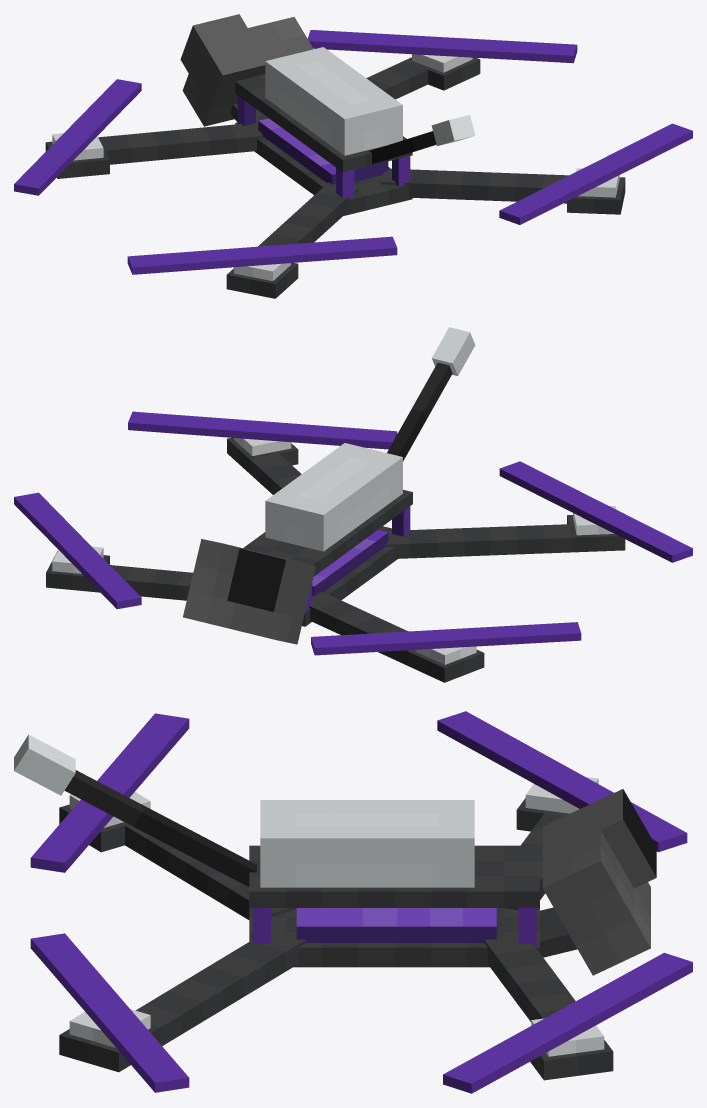
Rendered from voyager.gltf.
The picture shows the model from 3 angles, top to bottom: view 1: azimuth 30°, elevation 25°; view 2: azimuth 150°, elevation 25°; view 3: azimuth 270°, elevation 25°; orthographic projection. The views are drawn at different scales.
Parts seen in each view (by area): view 1: Battery, Body (×5), Camera (×2), front_left (×2), back_left_prop, back_right (×2), front_right_prop, back_right_prop, front_left_prop, back_left (×2), front_right (×2), Motors (×4) (+1 smaller); view 2: Camera (×2), Battery, back_left (×2), Body (×3), front_left_prop, back_right_prop, back_left_prop, front_right_prop, front_left (×2), Antenna (×2), front_right (×2), back_right (×2) (+1 smaller); view 3: Body (×6), Battery, Camera (×2), back_right (×2), front_right_prop, Antenna (×2), back_right_prop, front_left_prop, back_left_prop, front_right (×2), back_left (×2), Motors (×3) (+1 smaller).
Part boxes in pixels (x1,y1,x2,y2): Battery: (265,47,402,155); Body (×5): (235,74,412,215); Camera (×2): (180,14,313,126); front_left (×2): (45,123,262,178); back_left_prop: (127,236,397,274); back_right (×2): (381,168,625,214); front_right_prop: (307,30,577,63); back_right_prop: (499,123,692,224); front_left_prop: (14,79,141,195); back_left (×2): (226,182,358,298); front_right (×2): (366,57,480,99); Motors (×4): (52,54,619,280); Camera (×2): (183,539,315,644); Battery: (265,443,402,551); back_left (×2): (383,515,625,558); Body (×3): (243,489,412,626); front_left_prop: (311,622,581,655); back_right_prop: (128,411,397,449); back_left_prop: (499,461,692,562); front_right_prop: (14,492,141,609); front_left (×2): (309,592,484,682); Antenna (×2): (387,327,475,461); front_right (×2): (46,550,192,600); back_right (×2): (227,437,301,494); Body (×6): (249,845,577,967); Battery: (260,800,474,887); Camera (×2): (542,789,656,975); back_right (×2): (59,929,305,1072); front_right_prop: (443,952,692,1093); Antenna (×2): (14,734,256,886); back_right_prop: (30,933,189,1092); front_left_prop: (437,711,687,852); back_left_prop: (30,713,189,872); front_right (×2): (484,935,613,1080); back_left (×2): (59,804,296,919); Motors (×3): (69,777,604,1056).
Bounding box in the file's own units: 1.52 × 0.3865 × 1.17.
Materials: 1 (1 with a texture image).
